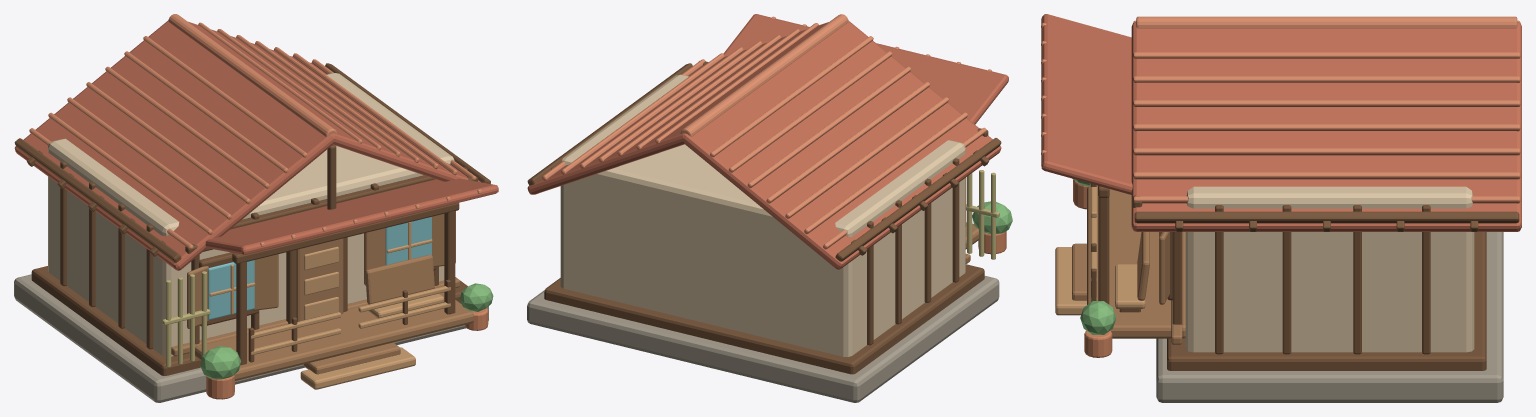
Rendered from house_main_01.glb.
3 views of the same model, side by side, from view 1: azimuth 30°, elevation 25°; view 2: azimuth 150°, elevation 25°; view 3: azimuth 270°, elevation 25° (orthographic). The views are drawn at different scales.
Visible parts, largest first — view 1: RoofLeft, HouseBody, PorchRoof, PorchFloor, StoneFoundation, RoofRight, RaisedTimberBase, BenchBack, RoofRidge, EaveFascia, DoorPanel, PorchBeam (+47 smaller); view 2: HouseBody, RoofLeft, StoneFoundation, RaisedTimberBase, PorchRoof, RoofRight, RoofRidge, EaveFascia, TileRib.004, TileRib.005, TileRib.003, TileRib.002 (+16 smaller); view 3: RoofRight, HouseBody, PorchRoof, StoneFoundation, RaisedTimberBase, PorchFloor, RoofRidge, EaveFascia.001, TileRib.011, TileRib.012, TileRib.010, TileRib.007 (+16 smaller).
Part boxes in pixels (x1,y1,x2,y2): RoofLeft: (14,20,333,270); HouseBody: (48,73,454,356); PorchRoof: (205,178,498,254); PorchFloor: (195,287,473,380); StoneFoundation: (14,274,488,402); RoofRight: (188,21,480,182); RaisedTimberBase: (31,266,467,375); BenchBack: (365,254,434,304); RoofRidge: (168,14,337,136); EaveFascia: (14,138,181,262); DoorPanel: (296,238,343,321); PorchBeam: (232,203,459,263); HouseBody: (560,74,965,356); RoofLeft: (683,20,1001,269); StoneFoundation: (527,276,999,402); RaisedTimberBase: (544,264,984,374); PorchRoof: (723,14,1008,124); RoofRight: (527,22,828,194); RoofRidge: (680,14,848,136); EaveFascia: (835,138,1001,261); TileRib.004: (785,97,948,218); TileRib.005: (804,112,967,233); TileRib.003: (766,82,930,203); TileRib.002: (747,66,911,187); RoofRight: (1131,22,1521,231); HouseBody: (1185,186,1474,352); PorchRoof: (1041,14,1132,194); StoneFoundation: (1156,232,1503,402); RaisedTimberBase: (1167,232,1486,370); PorchFloor: (1087,185,1185,338); RoofRidge: (1136,16,1517,28); EaveFascia.001: (1134,211,1519,223); TileRib.011: (1133,148,1520,155); TileRib.012: (1133,172,1520,179); TileRib.010: (1133,124,1520,131); TileRib.007: (1133,52,1520,58).
Size of the model in its own units: 7.55 by 5.21 by 7.83.
